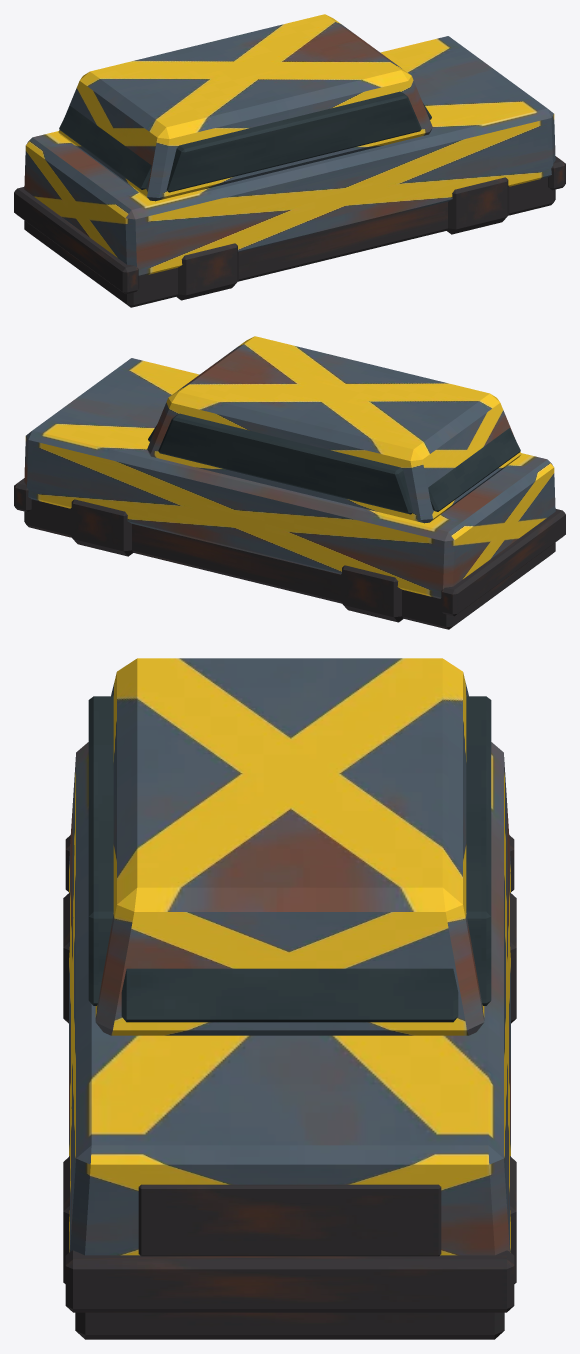
File: car-weak-wagon.glb
3 views of the same model, one above another, from view 1: azimuth 30°, elevation 25°; view 2: azimuth 150°, elevation 25°; view 3: azimuth 270°, elevation 25° (orthographic). The views are drawn at different scales.
Visible parts, largest first — view 1: car_weak_wagon; view 2: car_weak_wagon; view 3: car_weak_wagon.
Boxes of the visible parts, x1,y1,x2,y2 form: car_weak_wagon: [14, 14, 565, 307]; car_weak_wagon: [14, 336, 565, 629]; car_weak_wagon: [63, 658, 516, 1339].
Bounding box in the file's own units: 4.2 × 1.48 × 1.86.
Materials: 1 (1 with a texture image).
